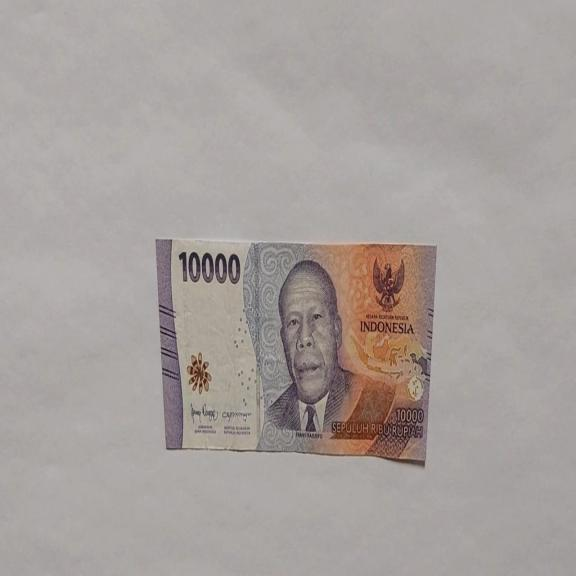Kertas: (155, 235, 437, 464), (177, 249, 241, 286)
